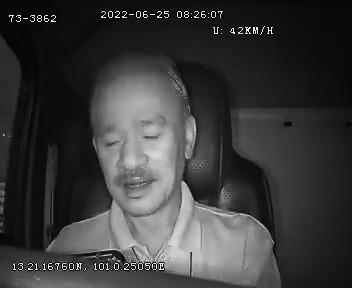PhoneUse: (56, 241, 135, 273)
